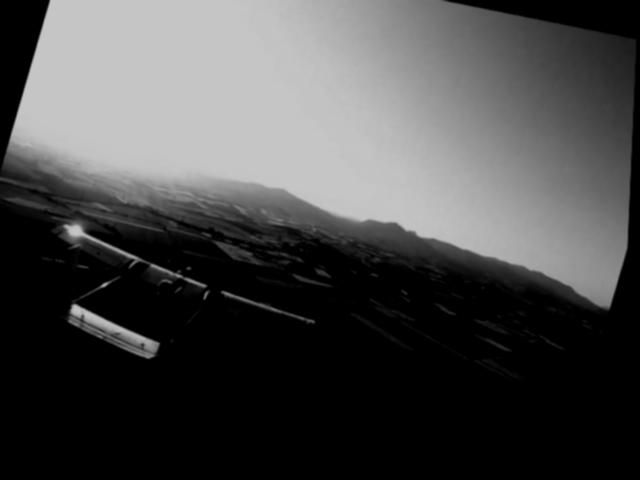hedef: (6, 185, 345, 423)
